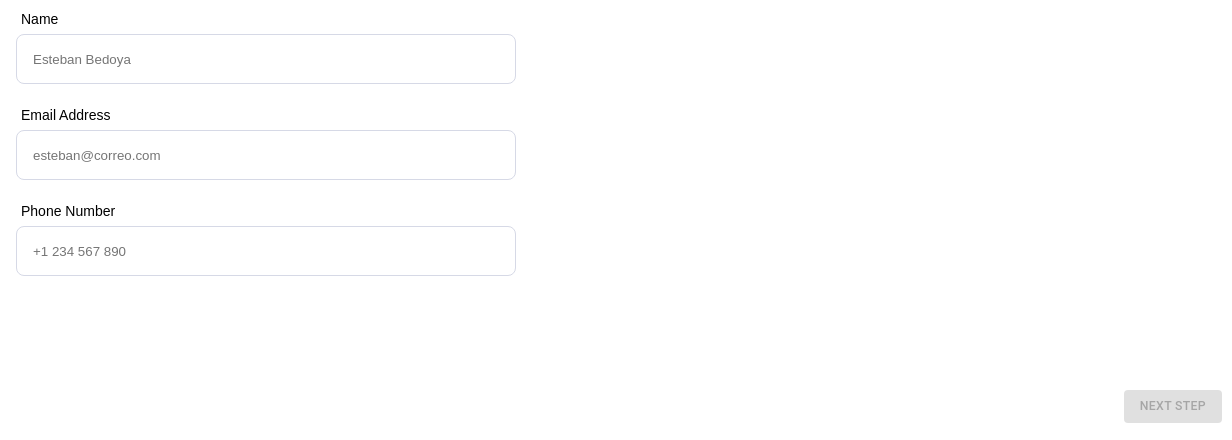
Scenario: PersonalInfo form › Should be an error text with bad email
This screenshot has width=1232, height=440.
Type "bad email" into the field with test id "email-input" at (266, 155), box 16,130 -> 516,180
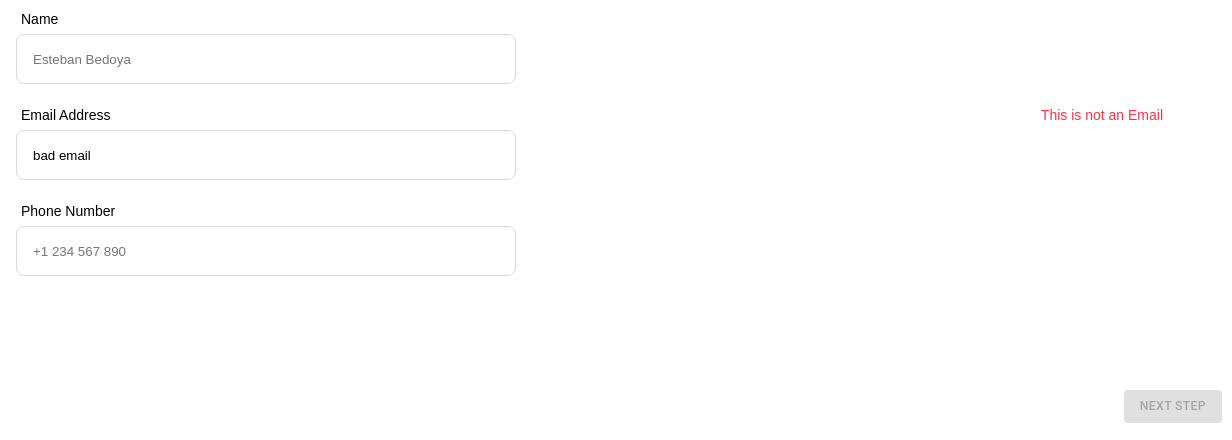
Expected: the text "This is not an Email" is shown, 1041,108 -> 1163,122
